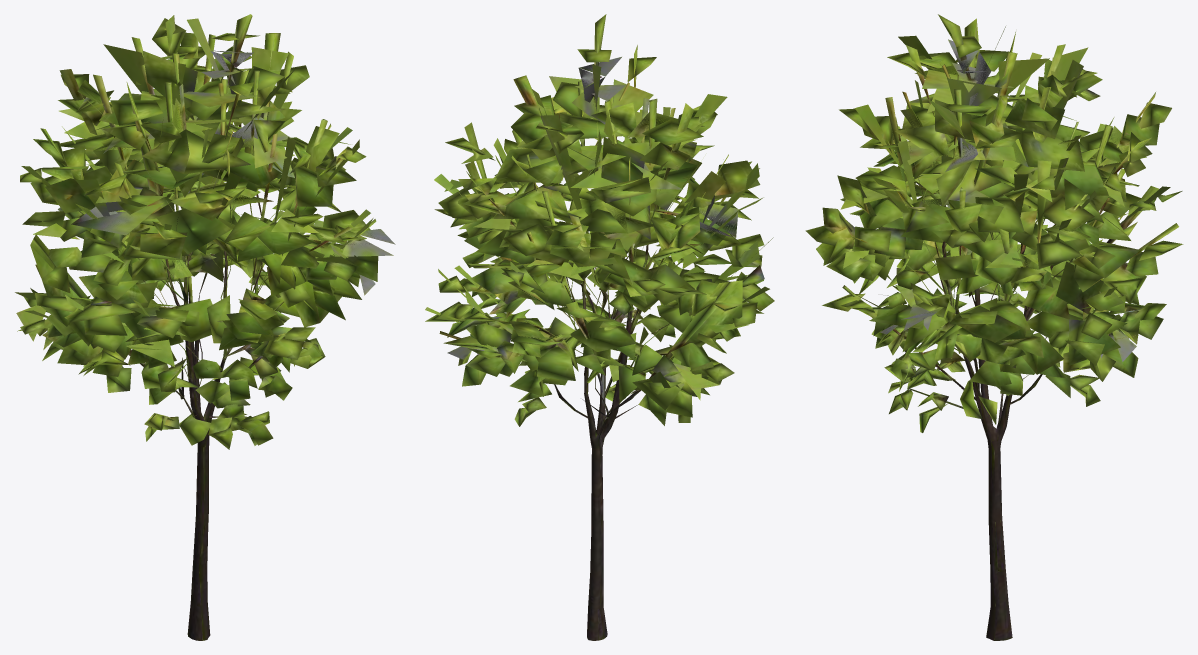
File: arbre_fevier.glb
The picture shows the model from 3 angles, left to right: view 1: azimuth 30°, elevation 25°; view 2: azimuth 150°, elevation 25°; view 3: azimuth 270°, elevation 25°; orthographic projection. The views are drawn at different scales.
Parts seen in each view (by area): view 1: rue_arbre_fevier; view 2: rue_arbre_fevier; view 3: rue_arbre_fevier.
Boxes of the visible parts, x1,y1,x2,y2 form: rue_arbre_fevier: (15,14,395,640); rue_arbre_fevier: (425,14,774,640); rue_arbre_fevier: (805,14,1183,640).
Bounding box in the file's own units: 3.75 × 7 × 3.79.
1 material, 1 textured.
